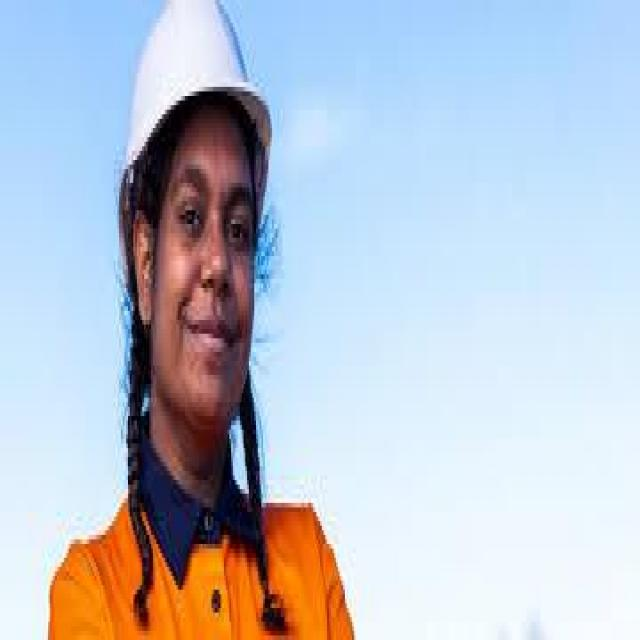Reflective-Jacket: (44, 475, 368, 640)
Safety-Helmet: (114, 0, 279, 197)
